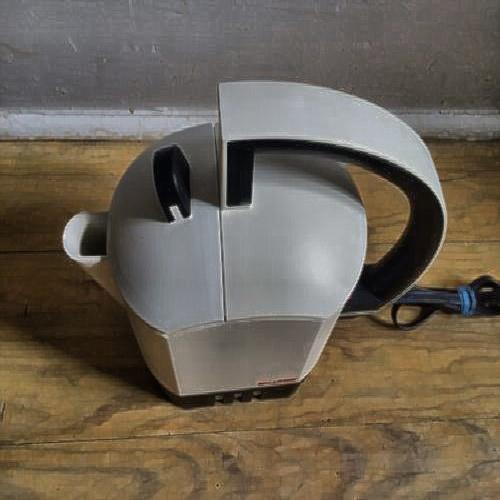kettle: (68, 87, 454, 386)
